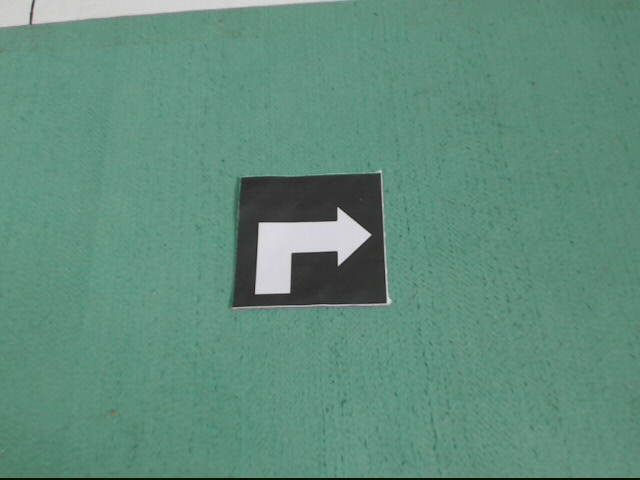right: (230, 172, 391, 305)
